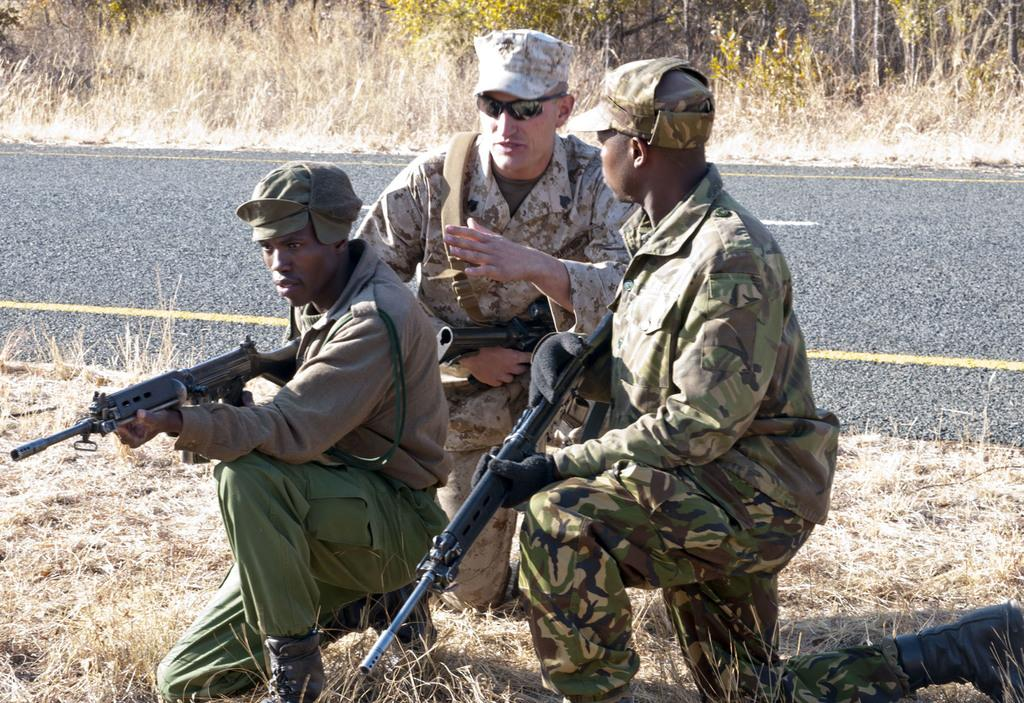Rifle: (351, 301, 620, 677), (4, 320, 308, 499)
